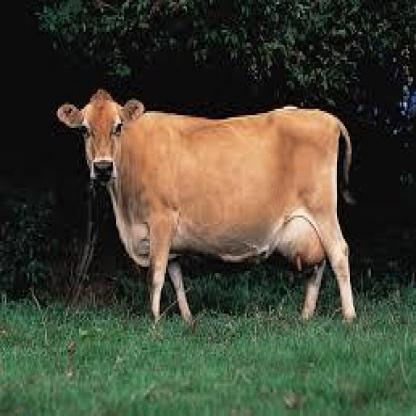cow: (58, 93, 356, 327)
